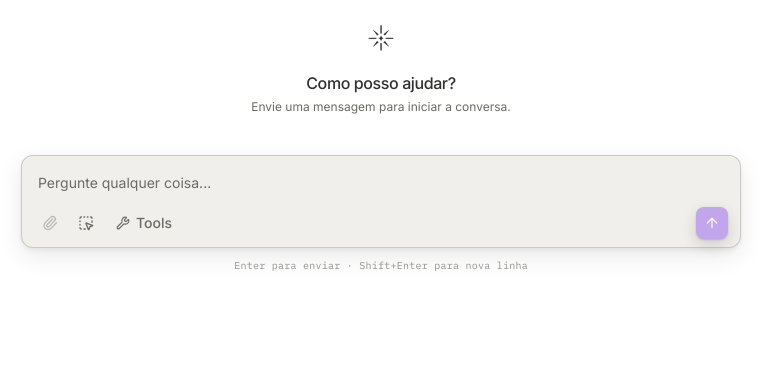
IslandChat › mostra Não encontrei na base quando citations é []
In the text box with placeholder "Pergunte qualquer coisa...": (381, 183) [30,164,732,203], type "busca"
Then press Enter
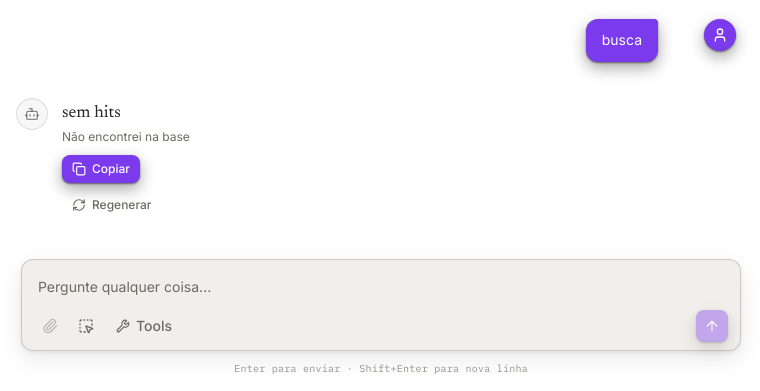
Result: the text "Não encontrei na base" is shown at [62,129,190,144]
